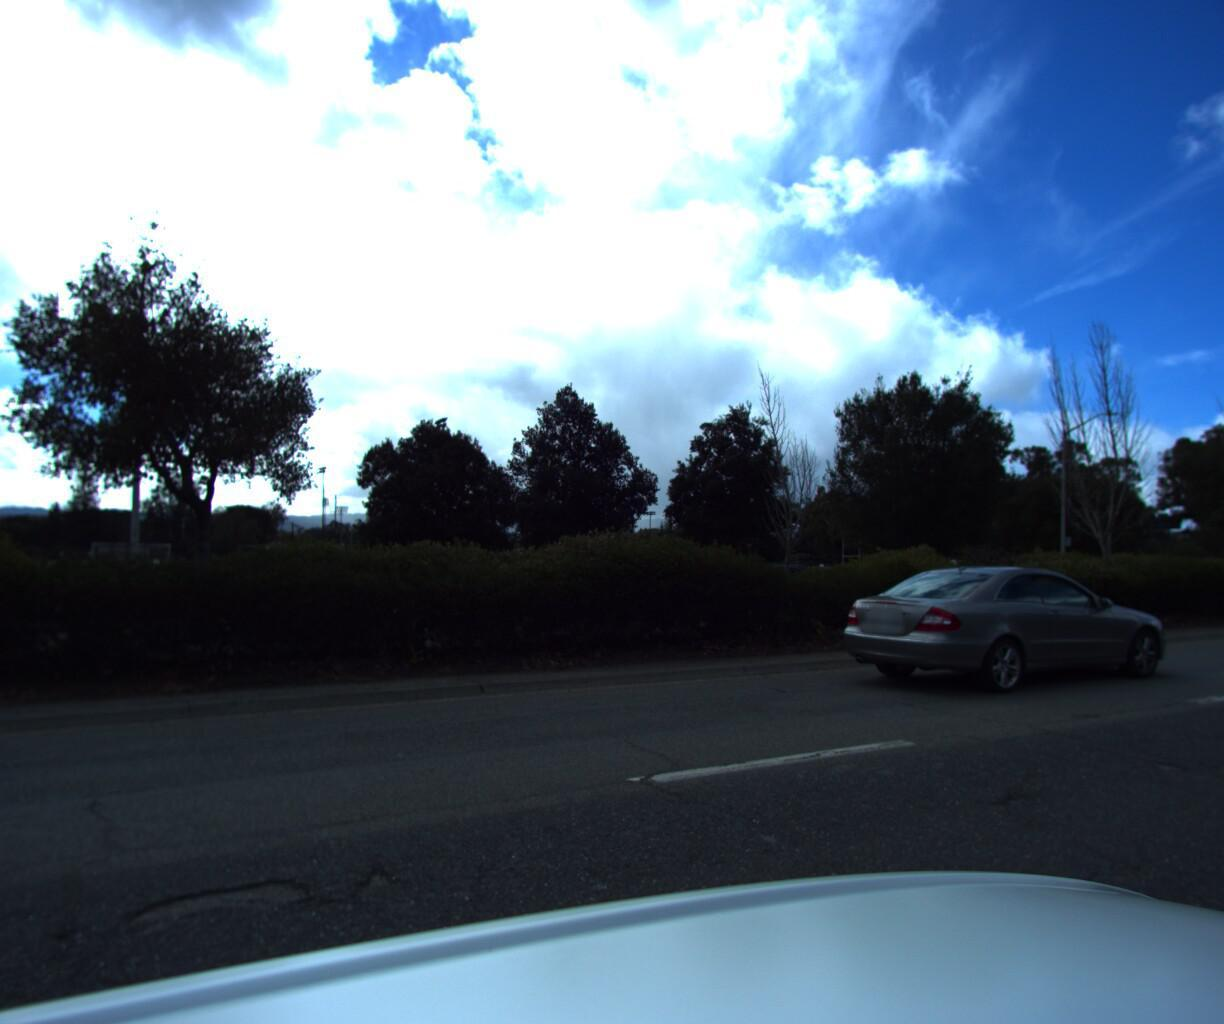car: (815, 563, 1170, 706)
